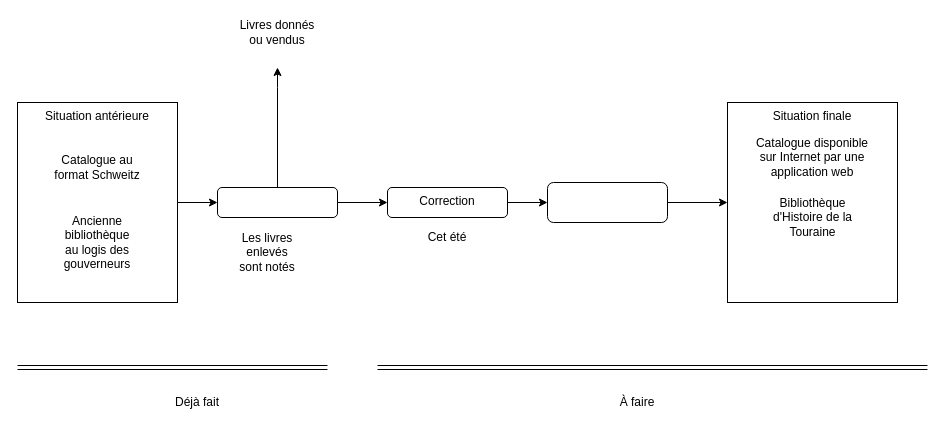
This 945x434 diagram has some shape labels left out. The shapes that lost their labels are listed below. From the top down, each one's centre as x and y in pixels, then its label:
At point 277,202: "Désherbage".
At point 607,202: "Intégration dans l'application web".
